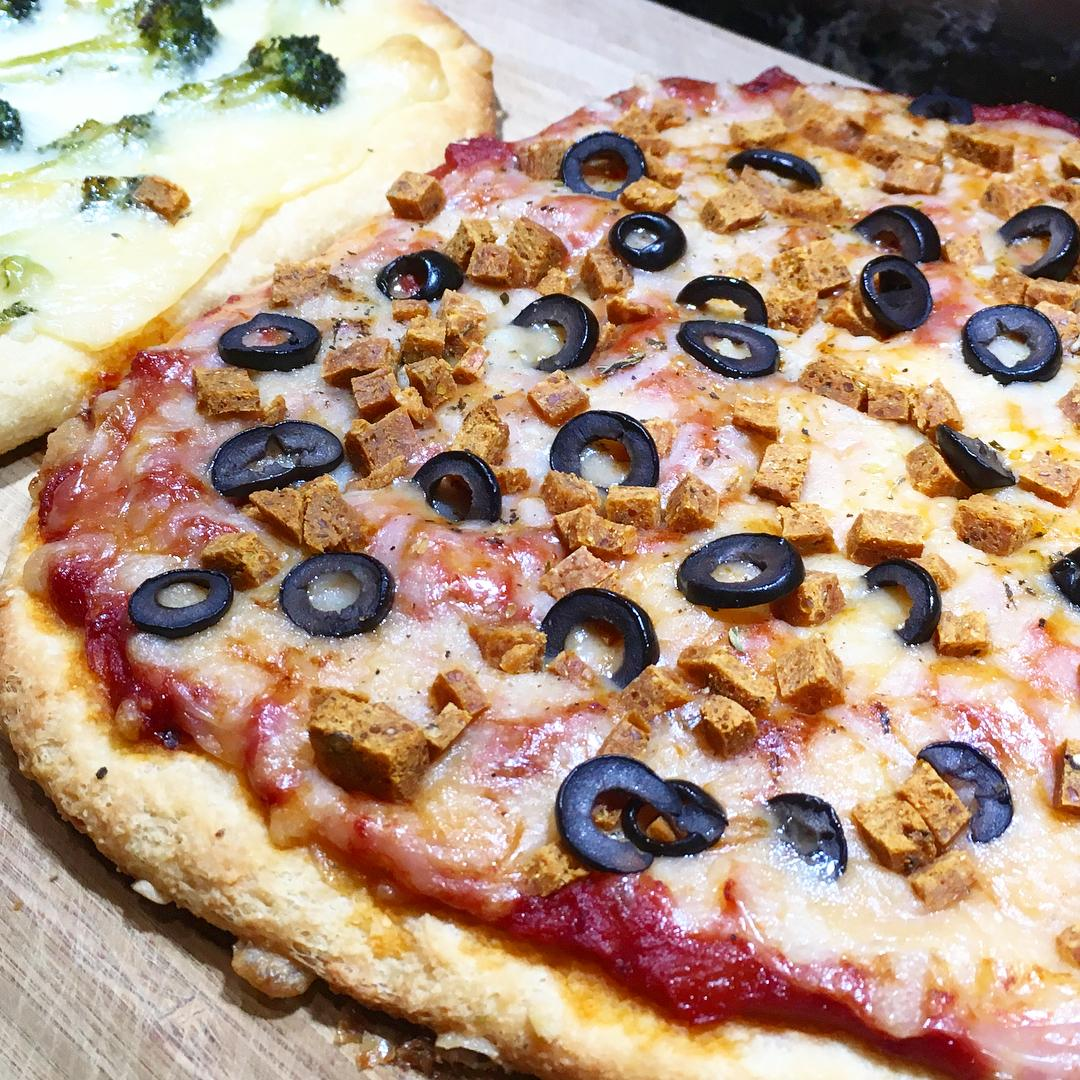Broccoli: (160, 26, 350, 133), (0, 0, 227, 82), (0, 82, 31, 162)
Cheese: (556, 755, 722, 870), (533, 581, 659, 690), (670, 268, 790, 379), (851, 202, 945, 333), (676, 526, 809, 608), (545, 408, 664, 499), (202, 420, 344, 496), (918, 742, 1017, 841), (958, 301, 1065, 387), (281, 559, 398, 636), (410, 455, 519, 537), (555, 127, 666, 204), (764, 788, 848, 886), (856, 552, 943, 645), (128, 568, 233, 639), (510, 293, 604, 367), (218, 305, 323, 370), (935, 417, 1021, 495), (597, 205, 702, 268), (719, 139, 831, 197), (997, 209, 1080, 280), (378, 254, 468, 303), (1046, 526, 1080, 625)
Pizza: (0, 0, 1080, 1080)
